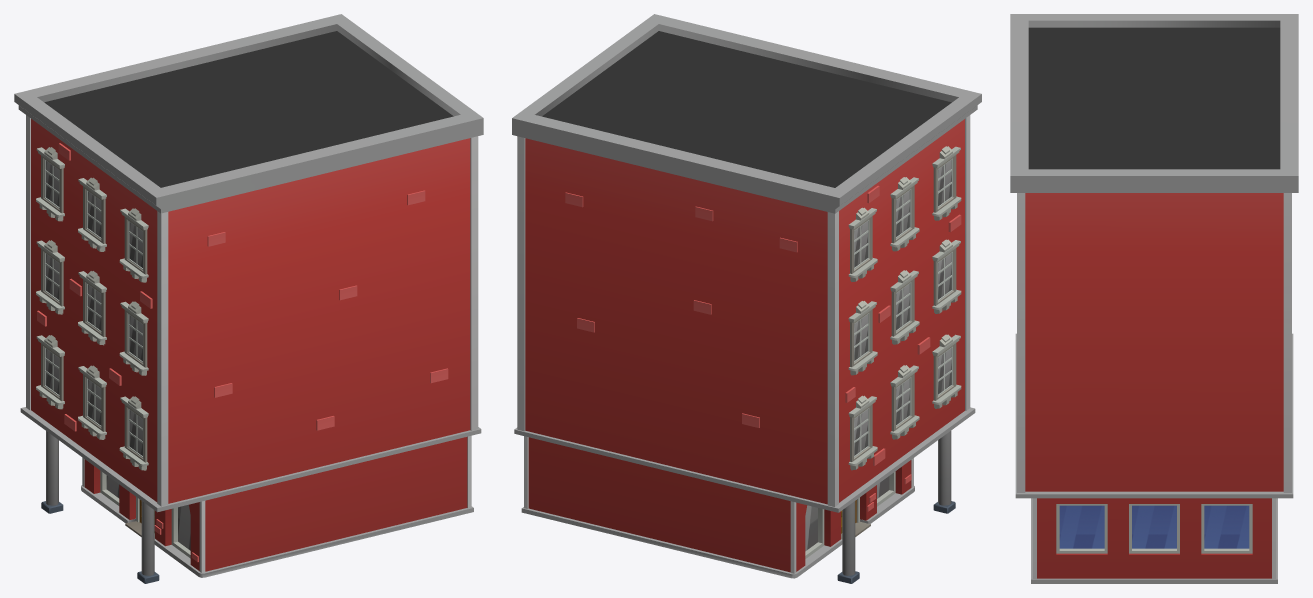
File: Building_4_D.fbx
3 renders of one model, left to right at view 1: azimuth 30°, elevation 25°; view 2: azimuth 150°, elevation 25°; view 3: azimuth 270°, elevation 25°, orthographic.
Visible parts, largest first — view 1: Building_4_D; view 2: Building_4_D; view 3: Building_4_D.
Part boxes in pixels (<box>): Building_4_D: <box>14,14,483,583</box>; Building_4_D: <box>512,14,981,583</box>; Building_4_D: <box>1010,14,1298,583</box>.
Bounding box in the file's own units: 1585 × 1855 × 1191.
